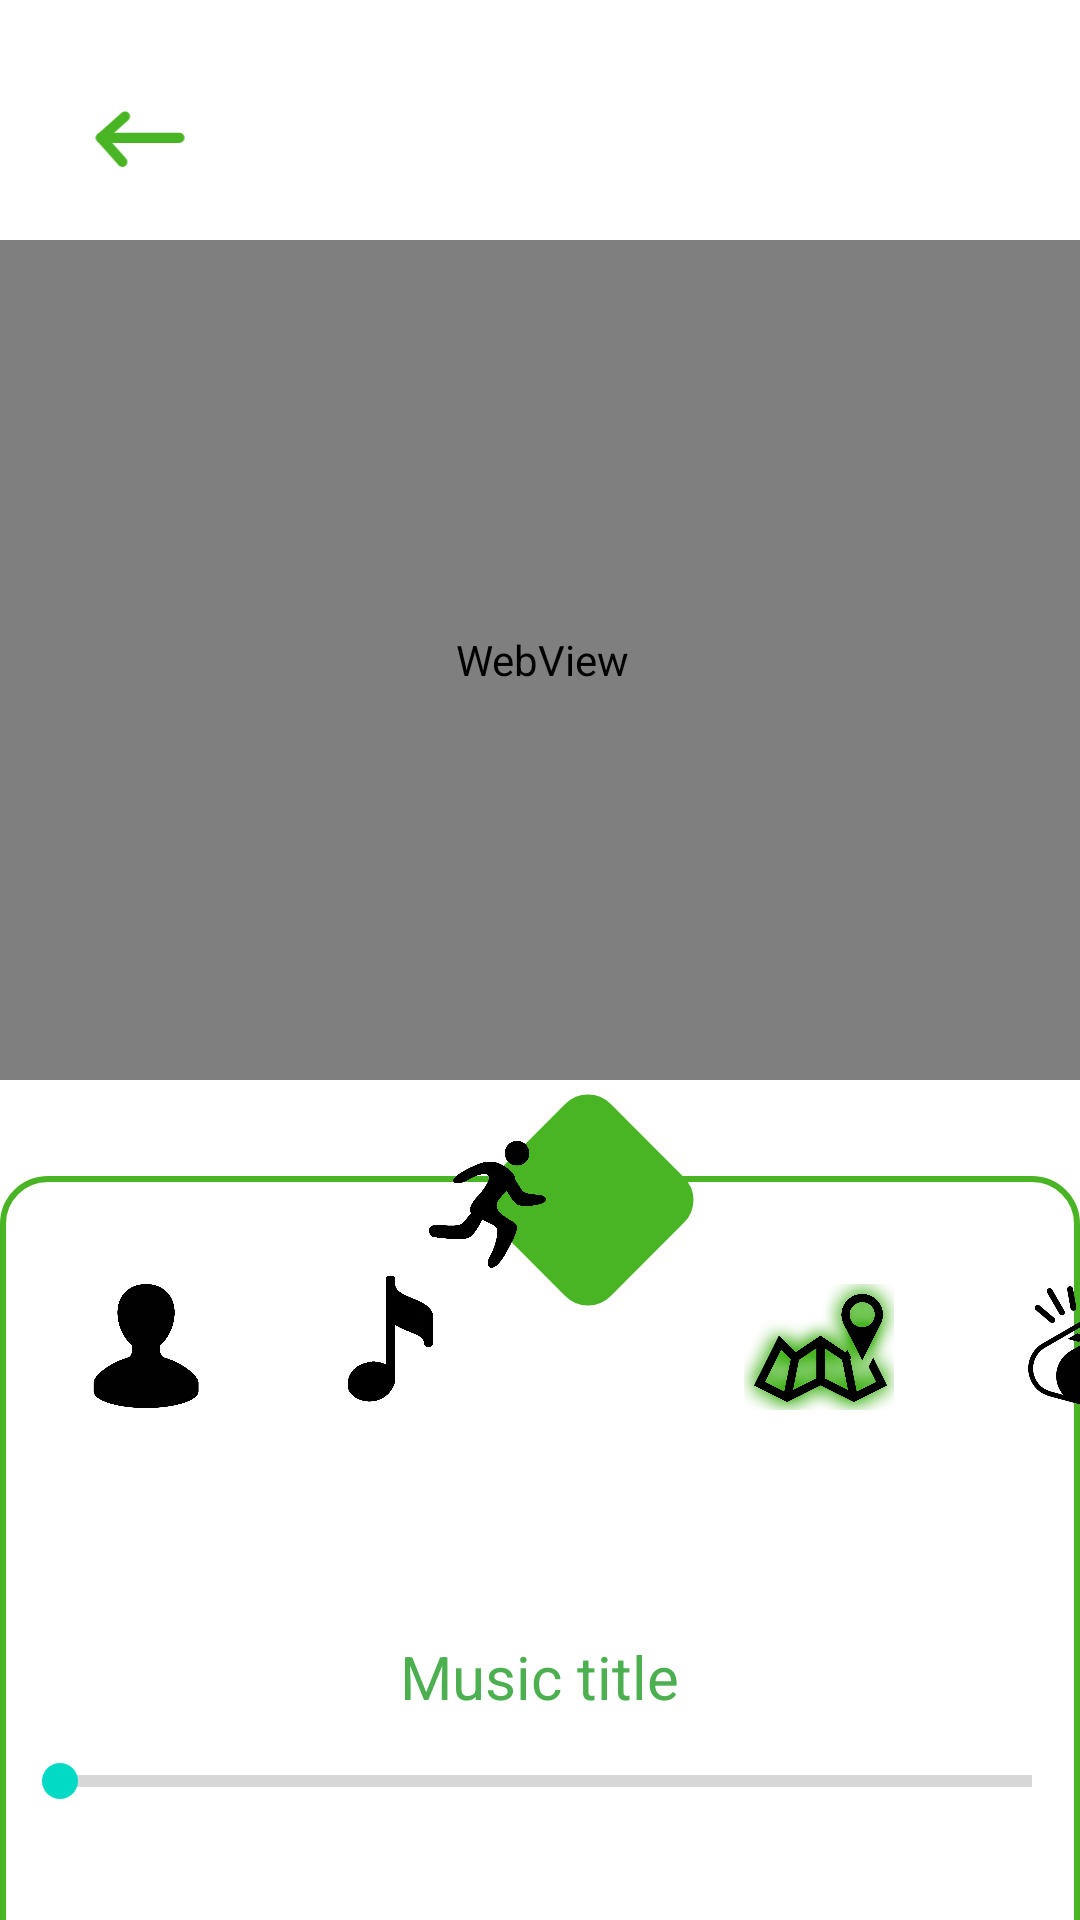

Where icons sit on this 1080px x 1920px app screen, as bbox(x1, y1, x2, y2):
back: bbox(95, 111, 185, 167)
human: bbox(93, 1284, 199, 1408)
map: bbox(744, 1284, 894, 1410)
note: bbox(348, 1276, 433, 1402)
